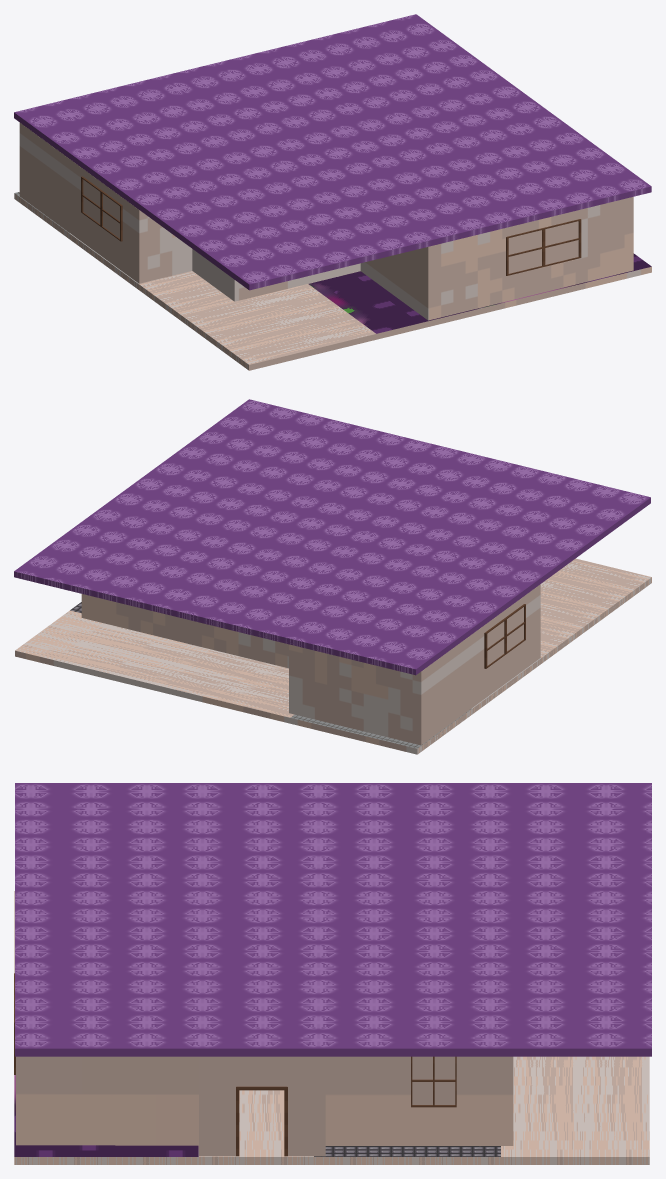
File: ev_pixel.fbx
3 renders of one model, top to bottom at view 1: azimuth 30°, elevation 25°; view 2: azimuth 150°, elevation 25°; view 3: azimuth 270°, elevation 25°, orthographic. The views are drawn at different scales.
Parts seen in each view (by area): view 1: tavan_pixel, ev_pixel; view 2: tavan_pixel, ev_pixel; view 3: tavan_pixel, ev_pixel.
Boxes of the visible parts, x1,y1,x2,y2 form: tavan_pixel: (14, 14, 651, 290); ev_pixel: (14, 122, 651, 370); tavan_pixel: (14, 399, 650, 675); ev_pixel: (15, 558, 651, 754); tavan_pixel: (15, 783, 651, 1056); ev_pixel: (14, 891, 649, 1164).
Size of the model in its own units: 2429 by 493 by 2456.
